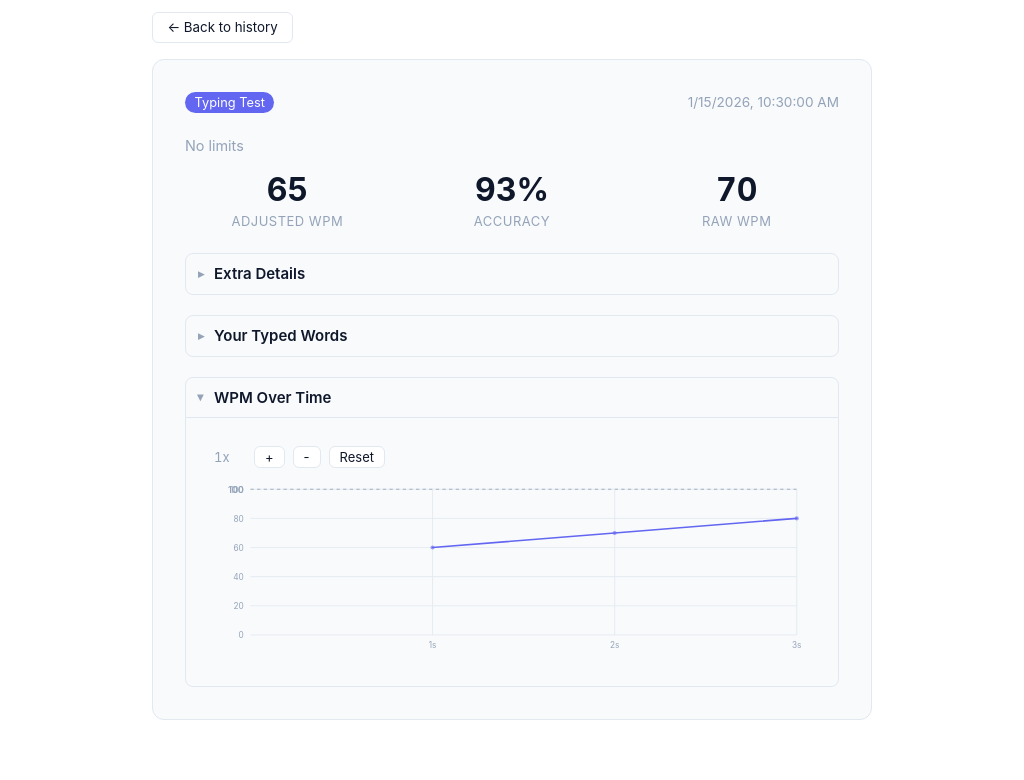
Test case: HistoryDetail › expands Your Typed Words to reveal saved words with WPM labels
Click the button "▸ Your Typed Words".
click(281, 336)  # box [186, 316, 838, 356]
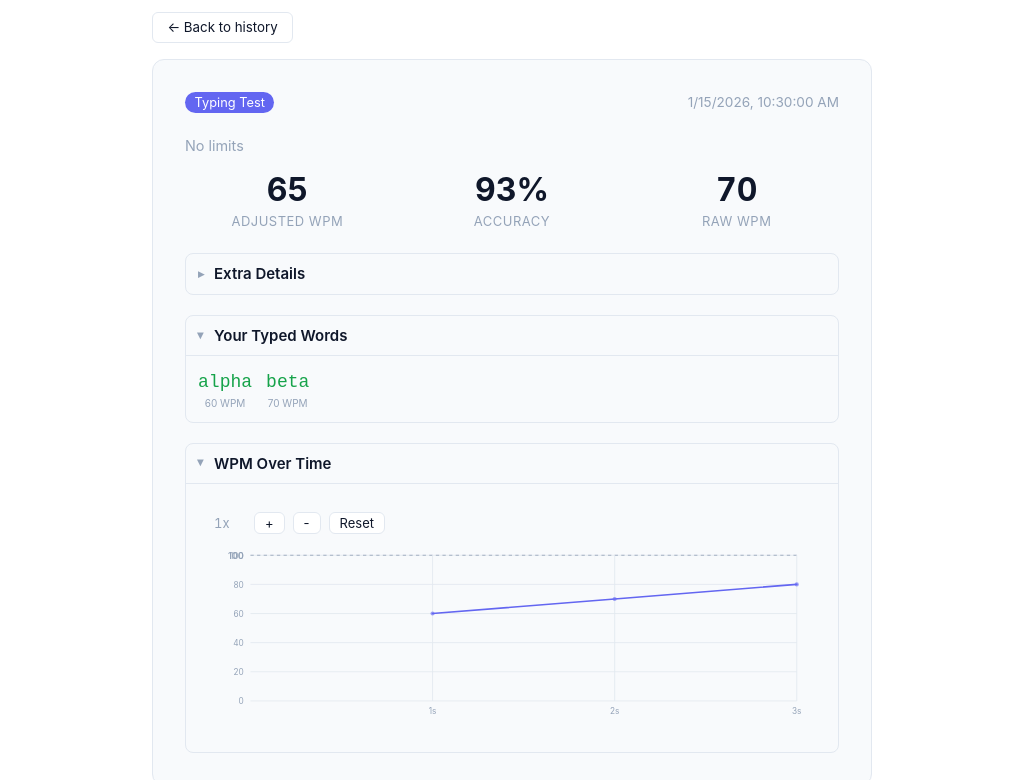
expect the element named "Typed test text review" shows "alpha": met, box [198, 372, 309, 409]
expect the element named "Typed test text review" shows "beta": met, box [198, 372, 309, 409]
expect the text "60 WPM" is shown: met, box [205, 397, 245, 410]
